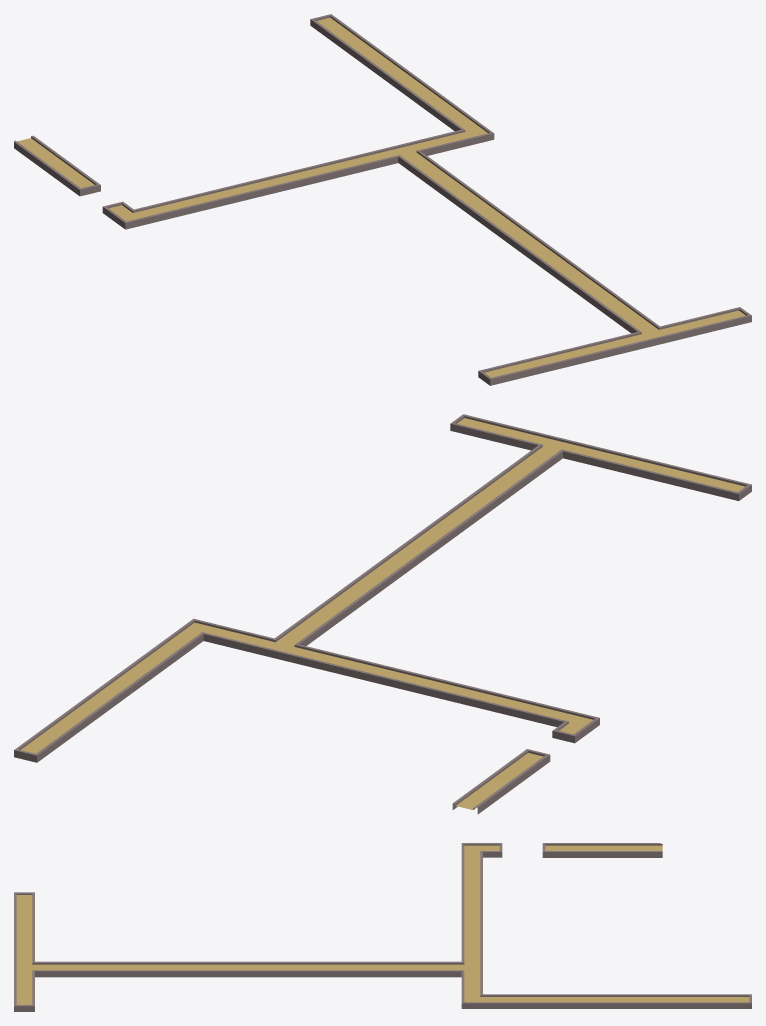
Rendered from FotPath 1.fbx.
3 views of the same model, one above another, from view 1: azimuth 30°, elevation 25°; view 2: azimuth 150°, elevation 25°; view 3: azimuth 270°, elevation 25° (orthographic). The views are drawn at different scales.
Parts seen in each view (by area): view 1: polySurface71; view 2: polySurface71; view 3: polySurface71.
Boxes of the visible parts, x1,y1,x2,y2 form: polySurface71: (14,14,751,385); polySurface71: (14,414,751,814); polySurface71: (14,843,751,1011).
Size of the model in its own units: 496 by 8.16 by 948.
